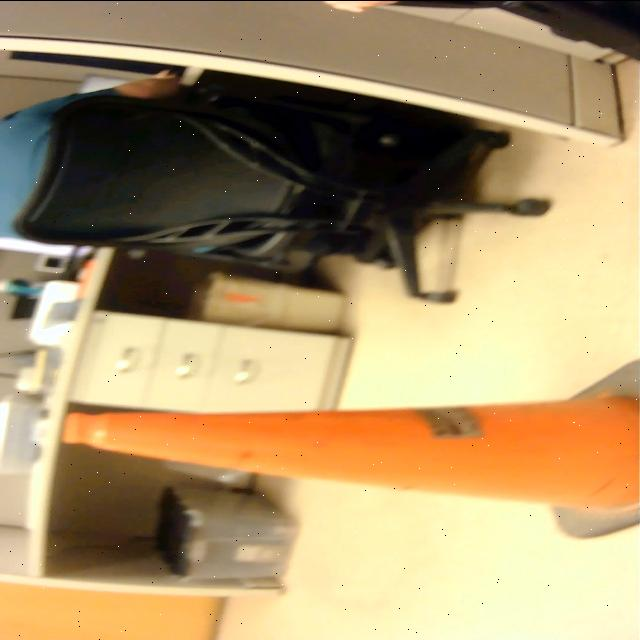traffic cone: (56, 347, 640, 545)
